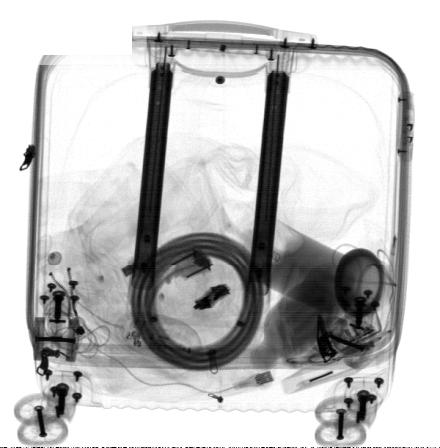Knife: (316, 313, 338, 362)
